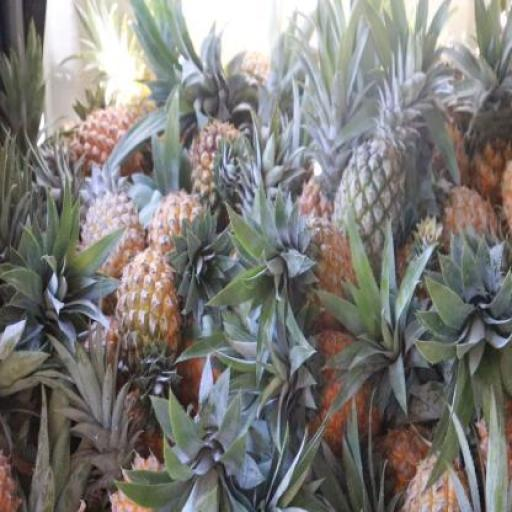Pineapple - v8 v1: (118, 253, 179, 378)
